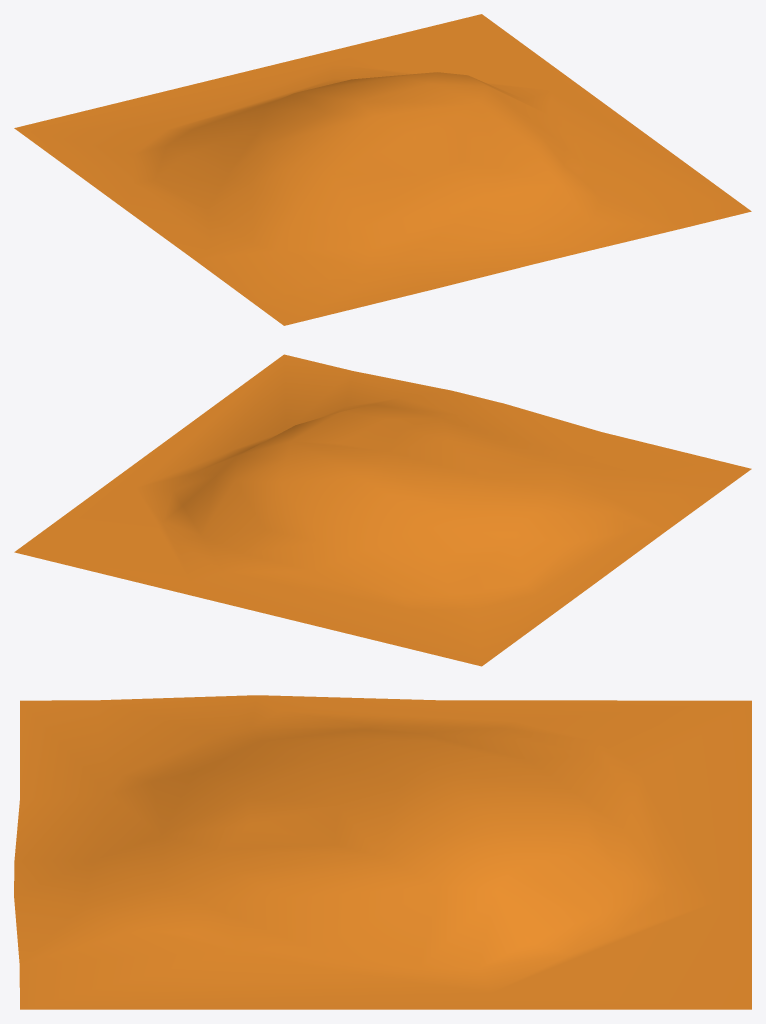
The model's file is Sable.fbx.
3 renders of one model, top to bottom at view 1: azimuth 30°, elevation 25°; view 2: azimuth 150°, elevation 25°; view 3: azimuth 270°, elevation 25°, orthographic. The views are drawn at different scales.
Parts seen in each view (by area): view 1: Plane; view 2: Plane; view 3: Plane.
Boxes of the visible parts, bbox=[...] form: Plane: bbox=[14, 14, 751, 325]; Plane: bbox=[14, 354, 751, 666]; Plane: bbox=[14, 695, 751, 1009].
Size of the model in its own units: 2782 by 288 by 2790.
